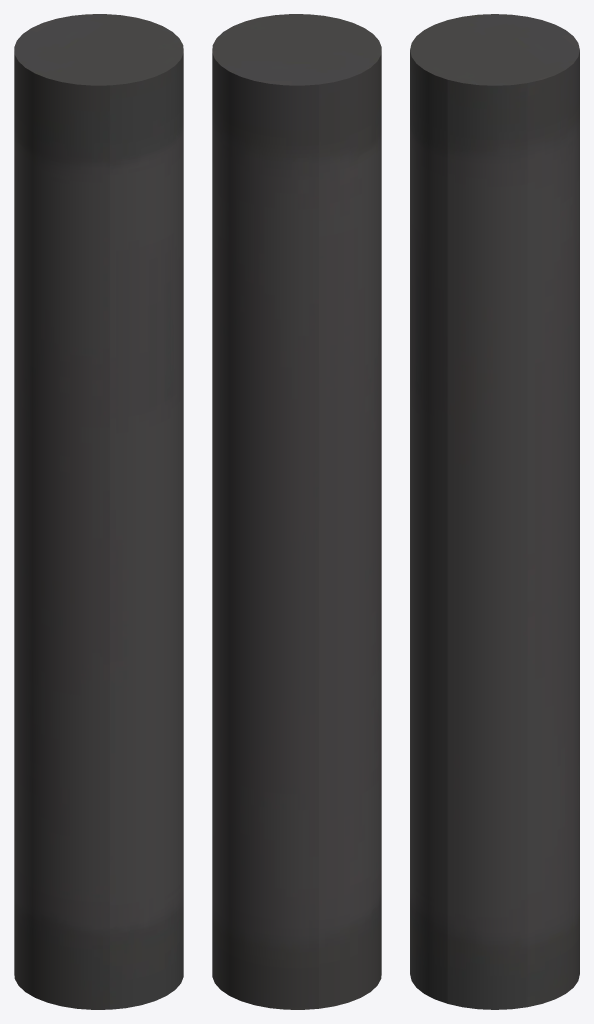
Rendered from main_frame__support_pivot_pin.glb.
3 views of the same model, side by side, from view 1: azimuth 30°, elevation 25°; view 2: azimuth 150°, elevation 25°; view 3: azimuth 270°, elevation 25° (orthographic).
Visible parts, largest first — view 1: world; view 2: world; view 3: world.
Part boxes in pixels (left/top/right/bottom): world: left=14, top=14, right=183, bottom=1009; world: left=212, top=14, right=381, bottom=1009; world: left=410, top=14, right=579, bottom=1009.
Bounding box in the file's own units: 0.06 × 0.36 × 0.06.
1 material, 1 textured.
